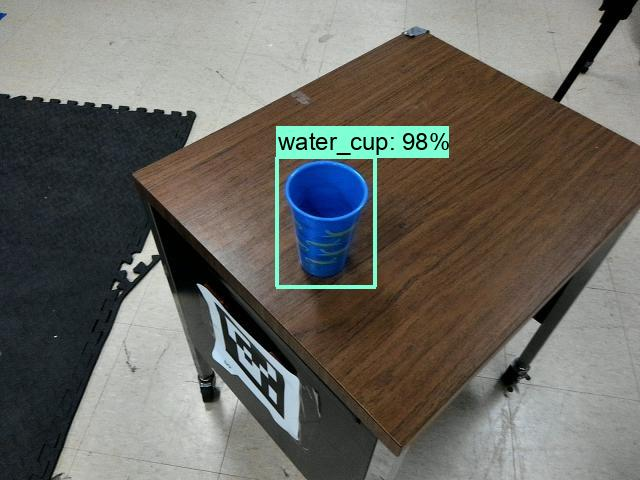water_cup: (278, 155, 372, 285)
